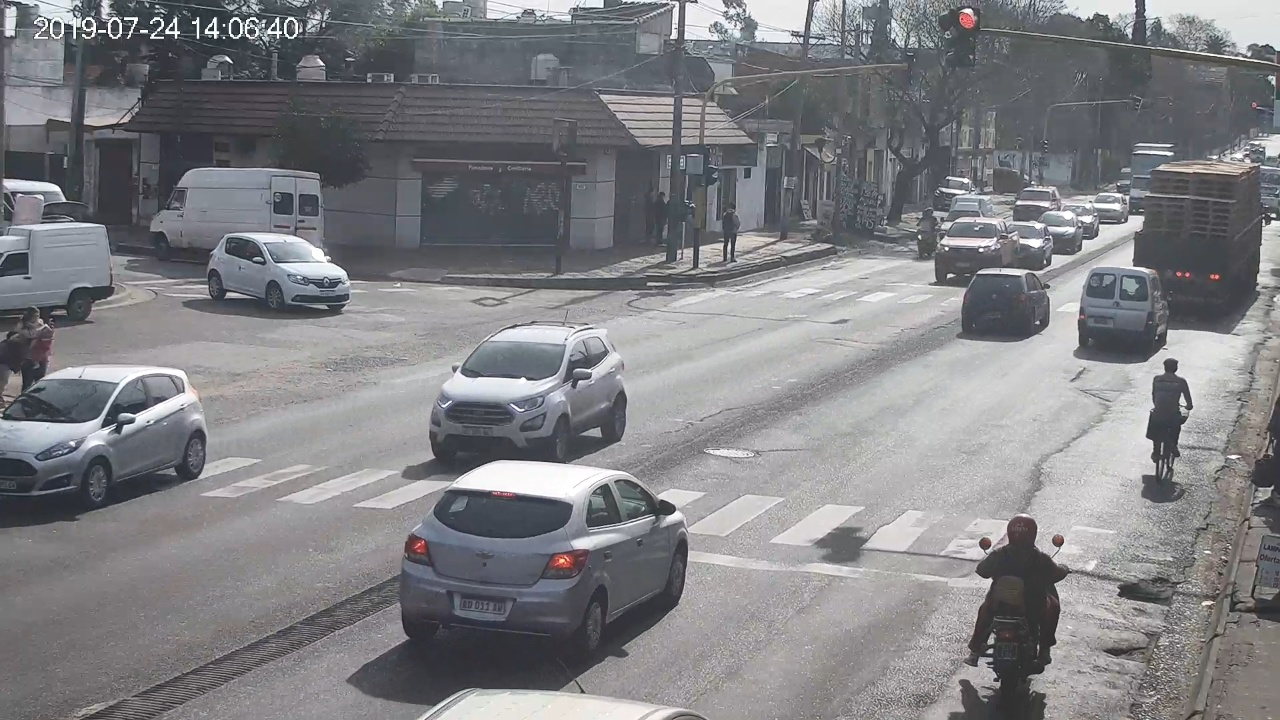bicycle: (1146, 358, 1193, 481)
car: (399, 461, 687, 650), (1078, 267, 1173, 351), (962, 268, 1050, 332)
front car: (1, 365, 207, 505), (429, 319, 627, 461)
motorcycle: (965, 533, 1072, 698)
traffic light: (956, 6, 978, 66)
